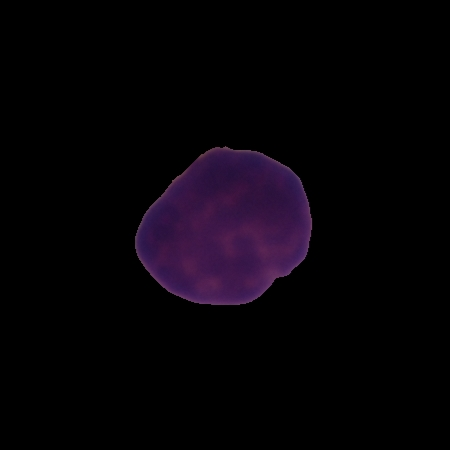HEM: (131, 142, 316, 308)
